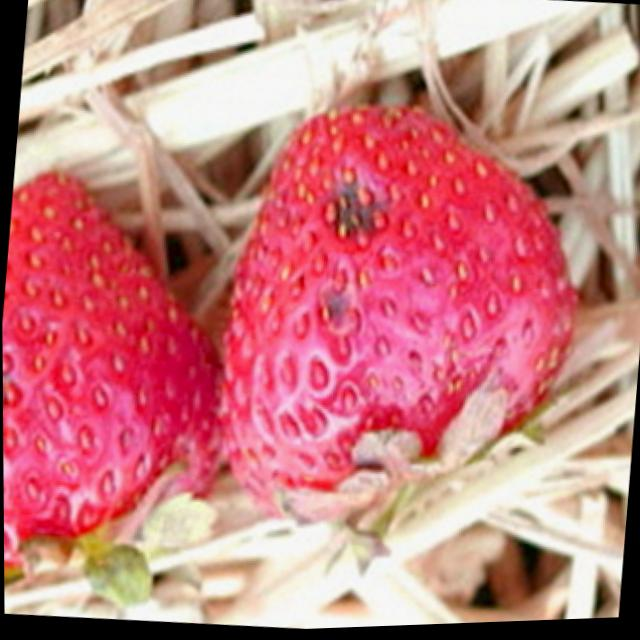Anthracnose Fruit Rot: (309, 175, 390, 329), (2, 370, 16, 410)
